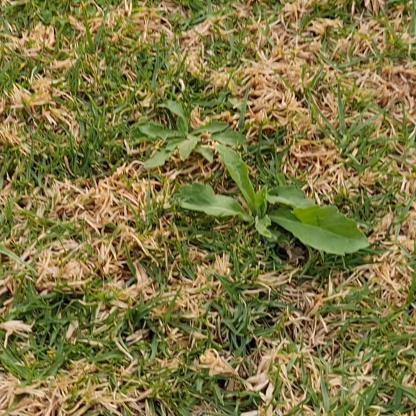Weeds: (172, 145, 370, 254)
